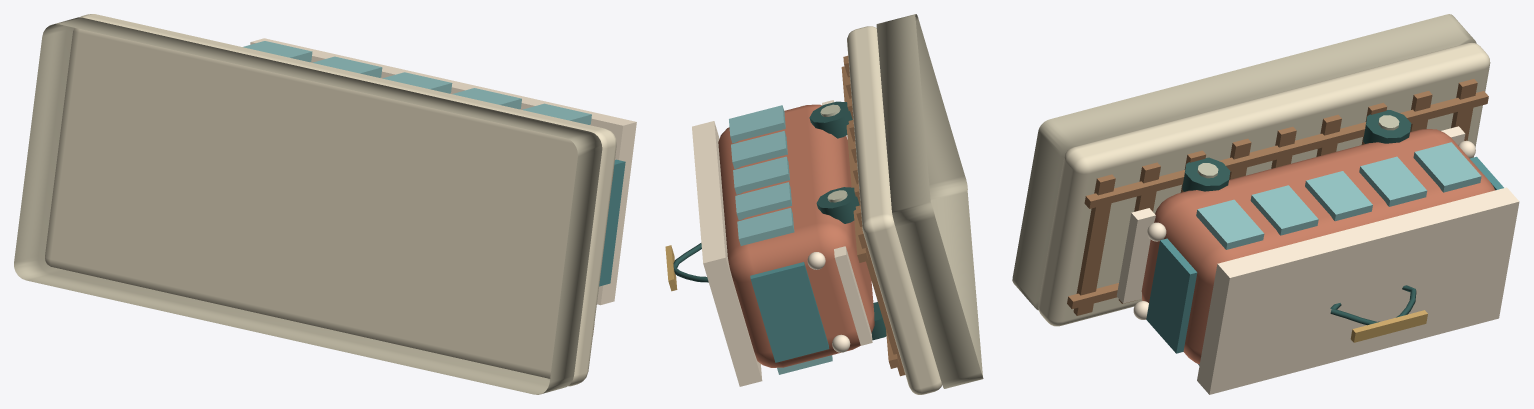
File: tram.glb
The picture shows the model from 3 angles, left to right: view 1: azimuth 30°, elevation 25°; view 2: azimuth 150°, elevation 25°; view 3: azimuth 270°, elevation 25°; orthographic projection. The views are drawn at different scales.
Parts seen in each view (by area): view 1: tram (×5); view 2: tram (×10); view 3: tram (×10).
Part boxes in pixels (x1=…): tram (×5): x1=14, y1=14, x2=636, y2=394; tram (×10): x1=665, y1=14, x2=983, y2=394; tram (×10): x1=1012, y1=14, x2=1519, y2=394.
Size of the model in its own units: 0.3726 by 0.1921 by 0.4039.
